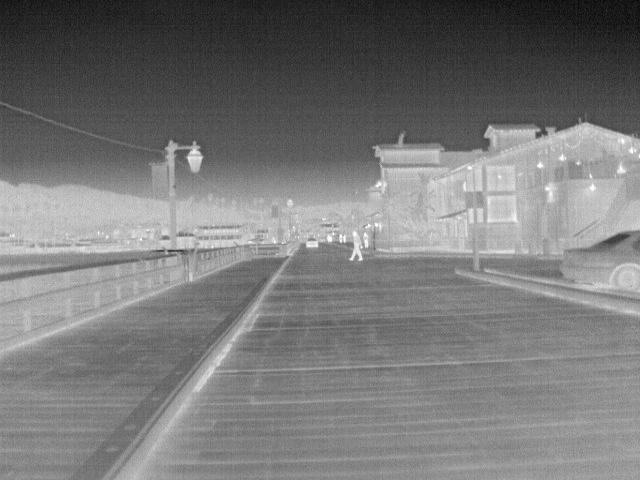car: (557, 227, 640, 292), (306, 237, 320, 248)
person: (348, 228, 364, 262), (362, 230, 372, 250), (337, 230, 344, 244), (342, 234, 349, 246)
